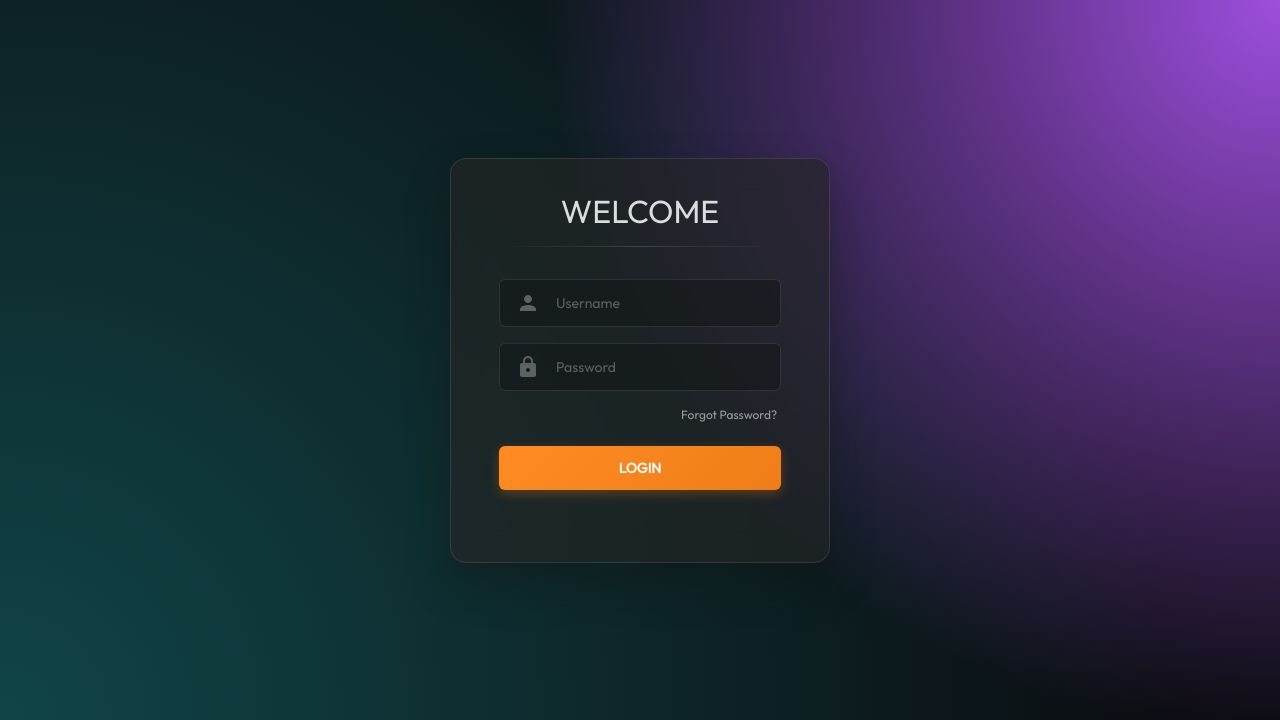
Test: Login Component › Behavioral Scenarios › WHEN operation actions fail without payload message SHOULD fallback safely to authentication generic failure validation
The width and height of the screenshot is (1280, 720).
Type "driver@test.com" into the field with placeholder "Username" at [660, 302], box [556, 280, 764, 326]
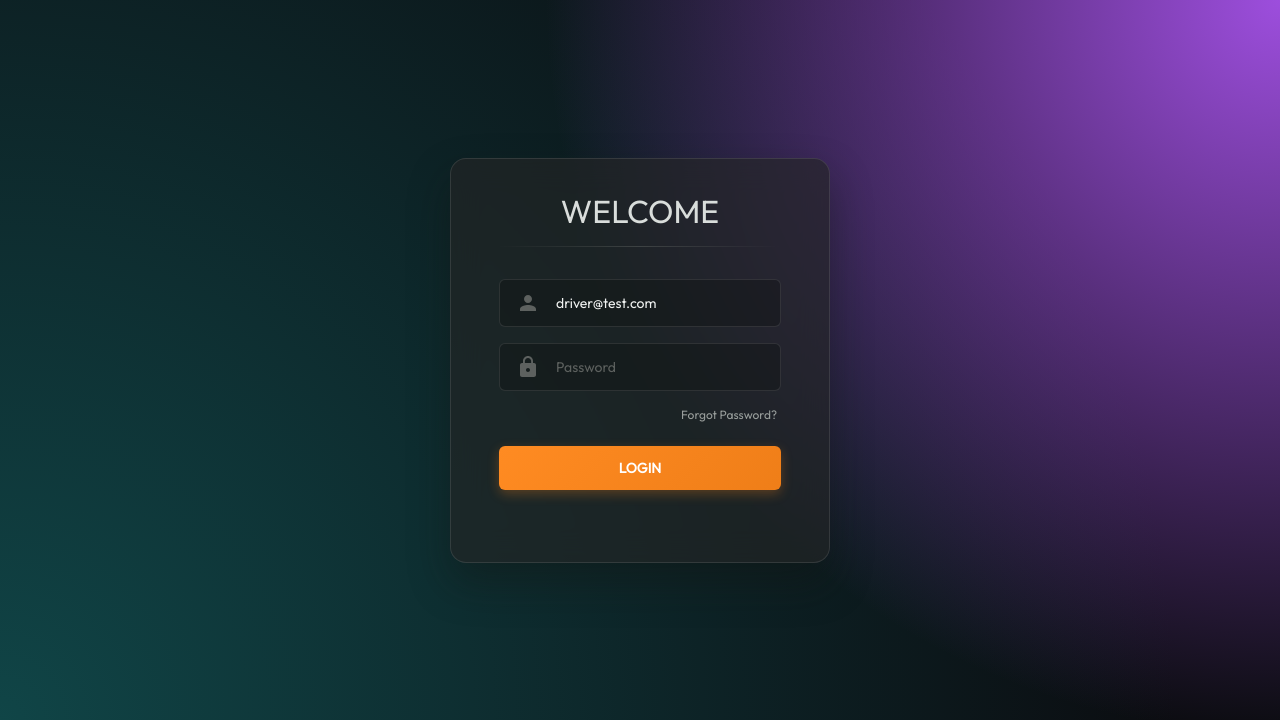
Type "test" into the password field with placeholder "Password" at [660, 366], box [556, 344, 764, 390]
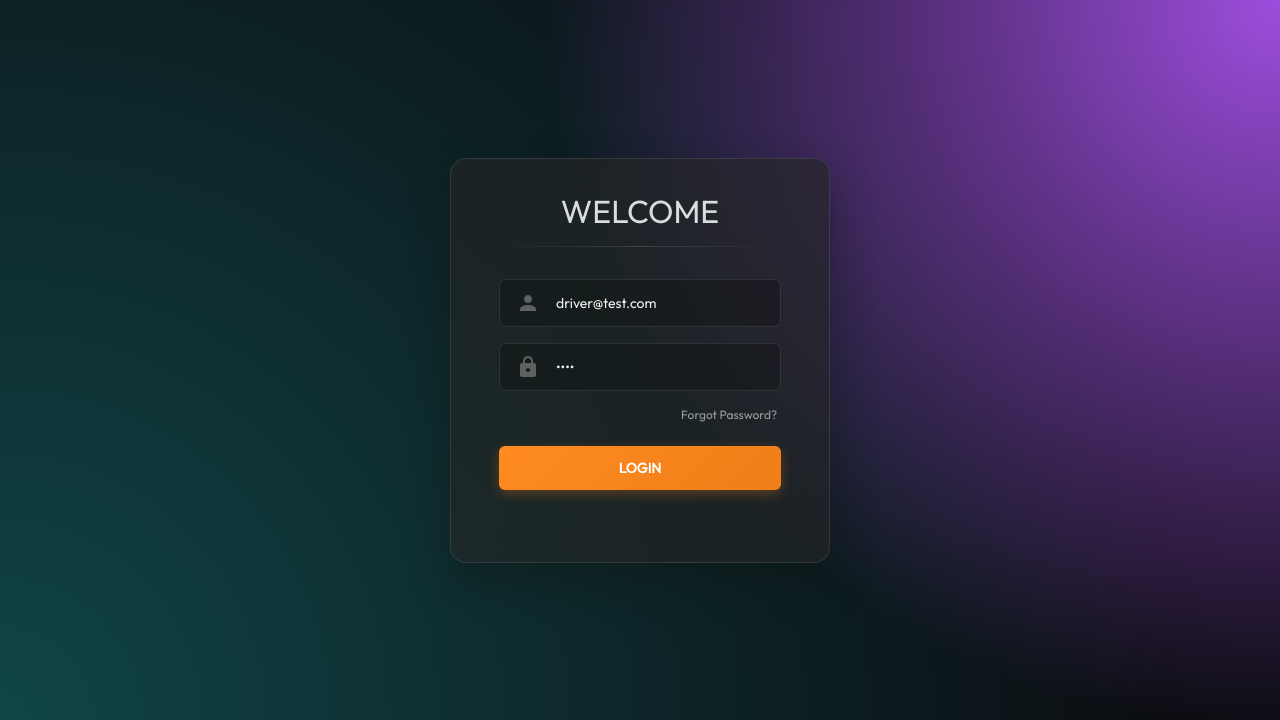
Submit the form with test id "button-login", box [450, 158, 830, 562]
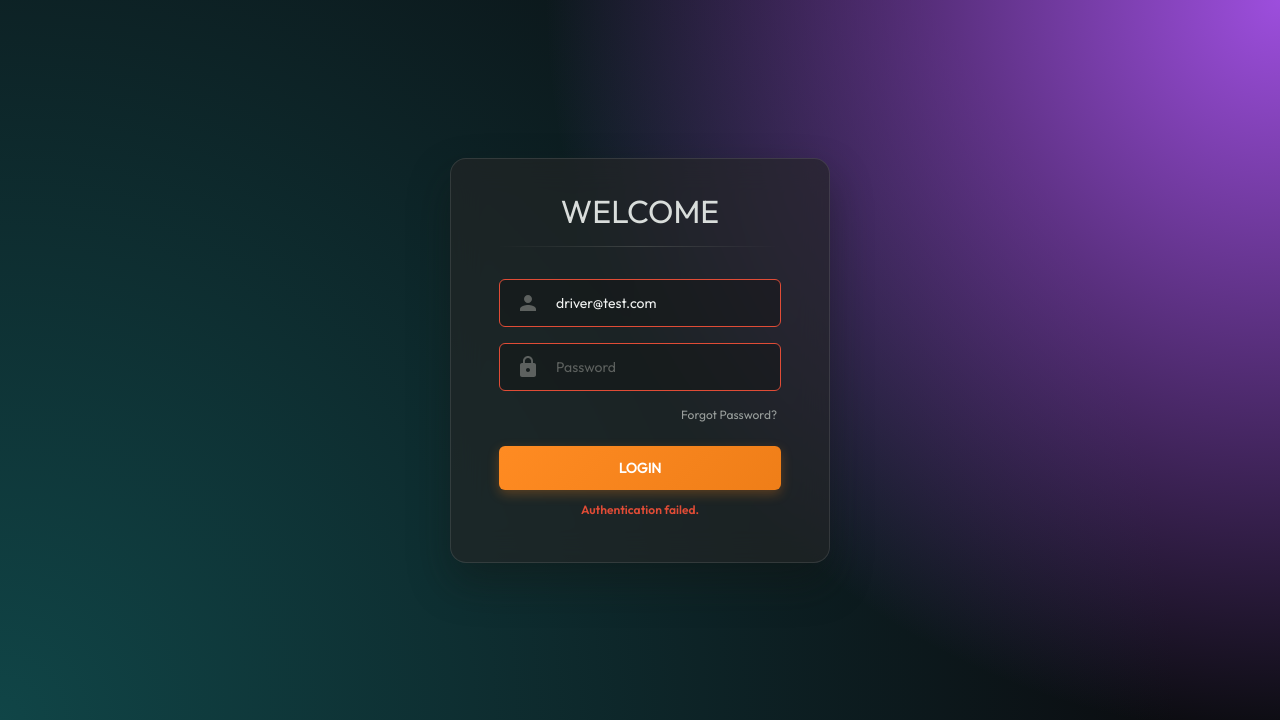
expect the text "Authentication failed." is shown: met, box [581, 502, 699, 517]
